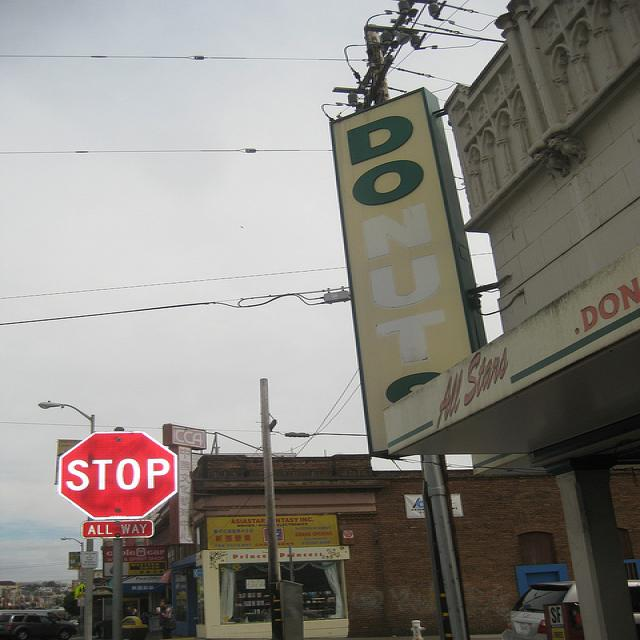Vehicle: (501, 579, 640, 640), (0, 613, 77, 639)
